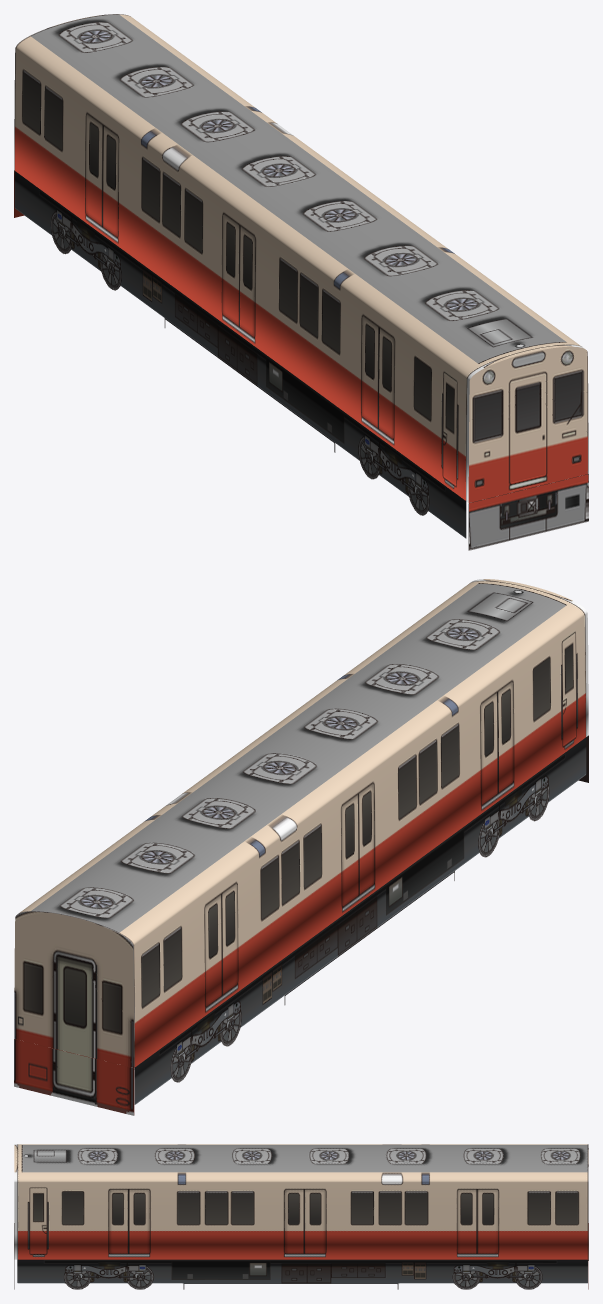
The model's file is car1.glb.
3 renders of one model, top to bottom at view 1: azimuth 30°, elevation 25°; view 2: azimuth 150°, elevation 25°; view 3: azimuth 270°, elevation 25°, orthographic. The views are drawn at different scales.
Visible parts, largest first — view 1: hansin-8000-car1; view 2: hansin-8000-car1; view 3: hansin-8000-car1.
Boxes of the visible parts, x1,y1,x2,y2 form: hansin-8000-car1: (14, 14, 588, 550); hansin-8000-car1: (14, 579, 588, 1115); hansin-8000-car1: (14, 1144, 588, 1289).
Size of the model in its own units: 2.8 by 4.09 by 18.41.
Materials: 9 (8 with a texture image).
